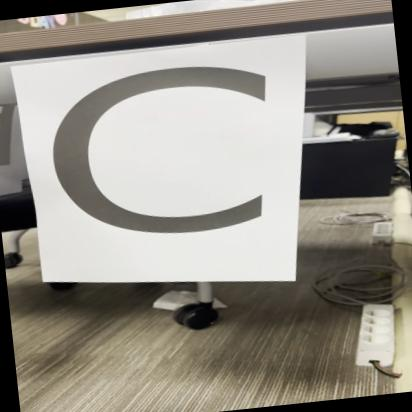seat: (26, 37, 328, 311)
